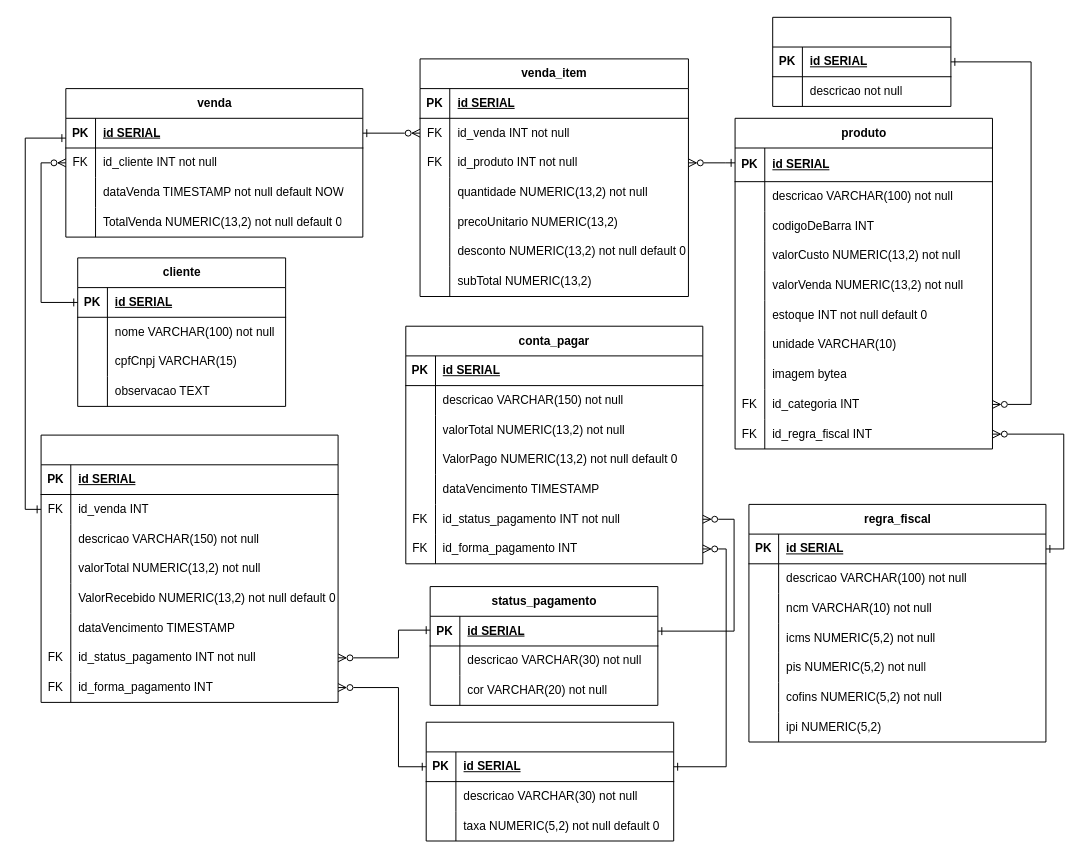
The diagram is 1090 pixels wide and 858 high, and some of its shapes have lost their labels. Here are the shapes that lost their labels. From the top down, the box of each, then its label:
(772, 16, 951, 106): categoria
(40, 434, 338, 702): conta_receber
(425, 721, 674, 841): forma_pagamento
